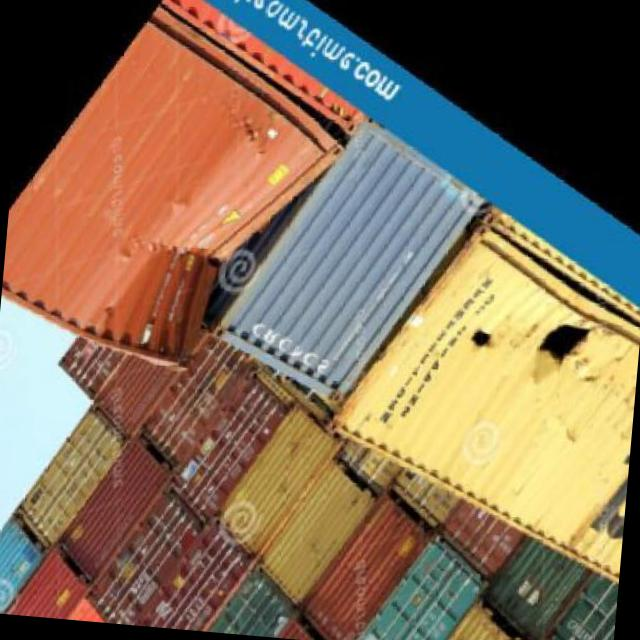Deframe_or_Dent: (148, 207, 276, 359)
Hole: (464, 302, 588, 388)
